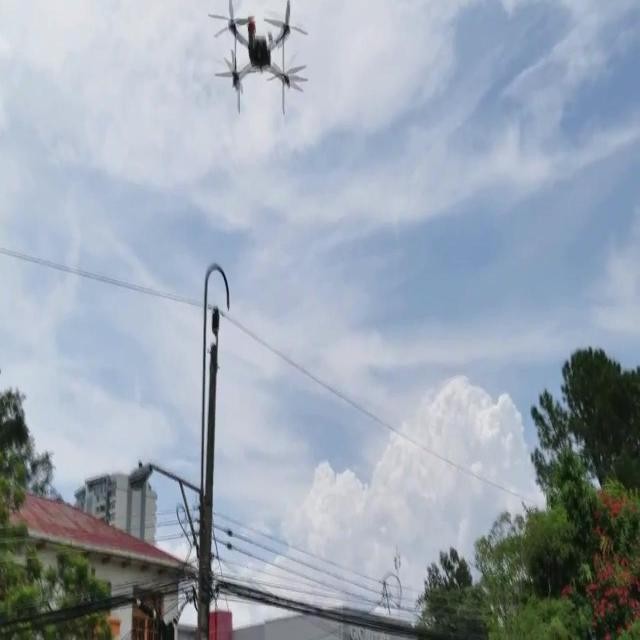drone: (208, 0, 310, 117)
